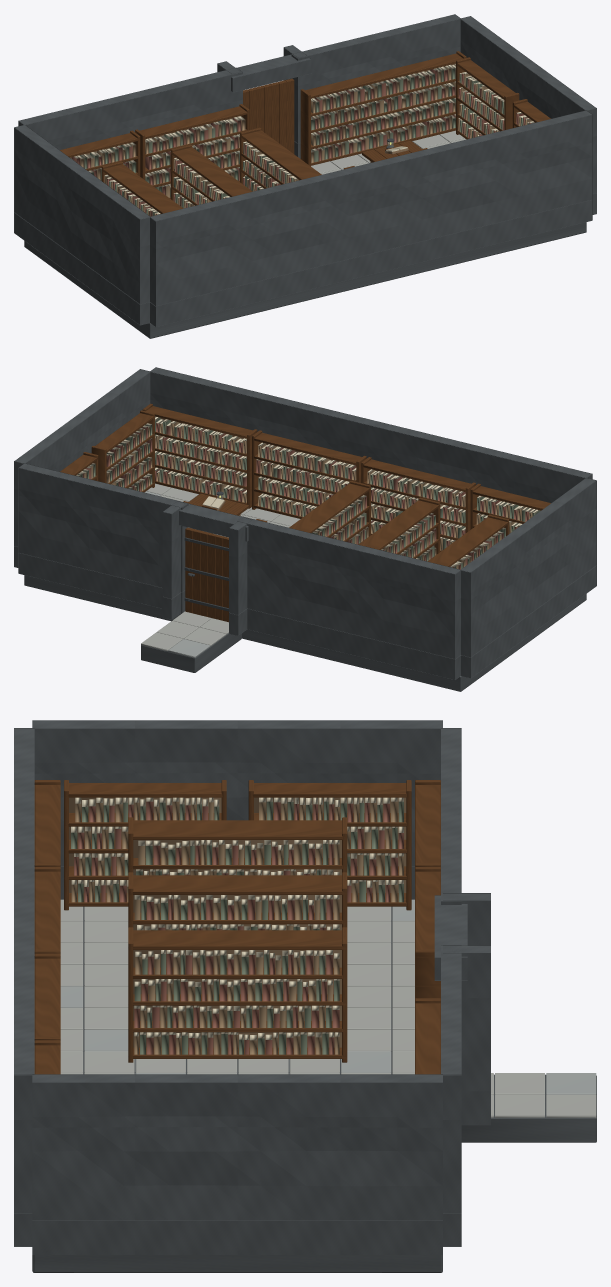
Rendered from retreat_global_a4.glb.
The picture shows the model from 3 angles, top to bottom: view 1: azimuth 30°, elevation 25°; view 2: azimuth 150°, elevation 25°; view 3: azimuth 270°, elevation 25°; orthographic projection. The views are drawn at different scales.
Visible parts, largest first — view 1: North_Wall_Upper.001, West_Wall_Upper, CANON_South_Bookcase_2, North_Wall_Base.001, South_Wall_West_Upper, CANON_Floor_Library, South_Wall_East_Upper, East_Wall_Upper.001, CANON_South_Bookcase_1, CANON_East_Bookcase_0, CANON_Independent_Shelf_2, CANON_Independent_Shelf_3 (+7 smaller); view 2: South_Wall_West_Upper, North_Wall_Upper.001, South_Wall_East_Upper, West_Wall_Upper, CANON_North_Bookcase_3, CANON_North_Bookcase_2, CANON_Floor_Library, East_Wall_Upper.001, CANON_North_Bookcase_1, South_Wall_West_Base, CANON_Floor_Entry_Threshold, CANON_Oak_Iron_Door (+12 smaller); view 3: East_Wall_Upper.001, CANON_Floor_Library, CANON_Independent_Shelf_3, West_Wall_Upper, East_Wall_Base.001, CANON_Independent_Shelf_1, CANON_Independent_Shelf_2, CANON_West_Bookcase_0, CANON_West_Bookcase_1, North_Wall_Upper.001, CANON_Floor_Entry_Threshold, South_Wall_East_Upper (+12 smaller).
Boxes of the visible parts, box(x1,y1,x2,y2) form: North_Wall_Upper.001: box(150, 110, 592, 305); West_Wall_Upper: box(14, 125, 150, 304); CANON_South_Bookcase_2: box(300, 51, 466, 166); North_Wall_Base.001: box(150, 199, 592, 326); South_Wall_West_Upper: box(18, 67, 242, 149); CANON_Floor_Library: box(24, 130, 586, 338); South_Wall_East_Upper: box(291, 14, 460, 143); East_Wall_Upper.001: box(460, 16, 596, 193); CANON_South_Bookcase_1: box(135, 104, 249, 198); CANON_East_Bookcase_0: box(456, 57, 519, 139); CANON_Independent_Shelf_2: box(170, 144, 252, 208); CANON_Independent_Shelf_3: box(240, 127, 321, 191); South_Wall_West_Upper: box(237, 516, 460, 658); North_Wall_Upper.001: box(150, 367, 592, 502); South_Wall_East_Upper: box(18, 463, 188, 592); West_Wall_Upper: box(460, 478, 596, 657); CANON_North_Bookcase_3: box(142, 403, 257, 508); CANON_North_Bookcase_2: box(252, 430, 366, 518); CANON_Floor_Library: box(24, 483, 586, 691); East_Wall_Upper.001: box(14, 369, 150, 546); CANON_North_Bookcase_1: box(361, 457, 475, 551); South_Wall_West_Base: box(247, 608, 460, 679); CANON_Floor_Entry_Threshold: box(141, 611, 241, 672); CANON_Oak_Iron_Door: box(184, 527, 228, 622); East_Wall_Upper.001: box(32, 1074, 442, 1220); CANON_Floor_Library: box(32, 899, 442, 1272); CANON_Independent_Shelf_3: box(128, 927, 347, 1062); West_Wall_Upper: box(32, 720, 442, 866); East_Wall_Base.001: box(32, 1220, 442, 1254); CANON_Independent_Shelf_1: box(128, 817, 347, 875); CANON_Independent_Shelf_2: box(128, 872, 347, 930); CANON_West_Bookcase_0: box(248, 780, 411, 910); CANON_West_Bookcase_1: box(64, 780, 226, 910); North_Wall_Upper.001: box(14, 728, 34, 1212); CANON_Floor_Entry_Threshold: box(461, 1073, 596, 1142); South_Wall_East_Upper: box(441, 945, 461, 1212).
Bounding box in the file's own units: 12.54 × 3.2 × 8.52.
Materials: 12 (2 with a texture image).
